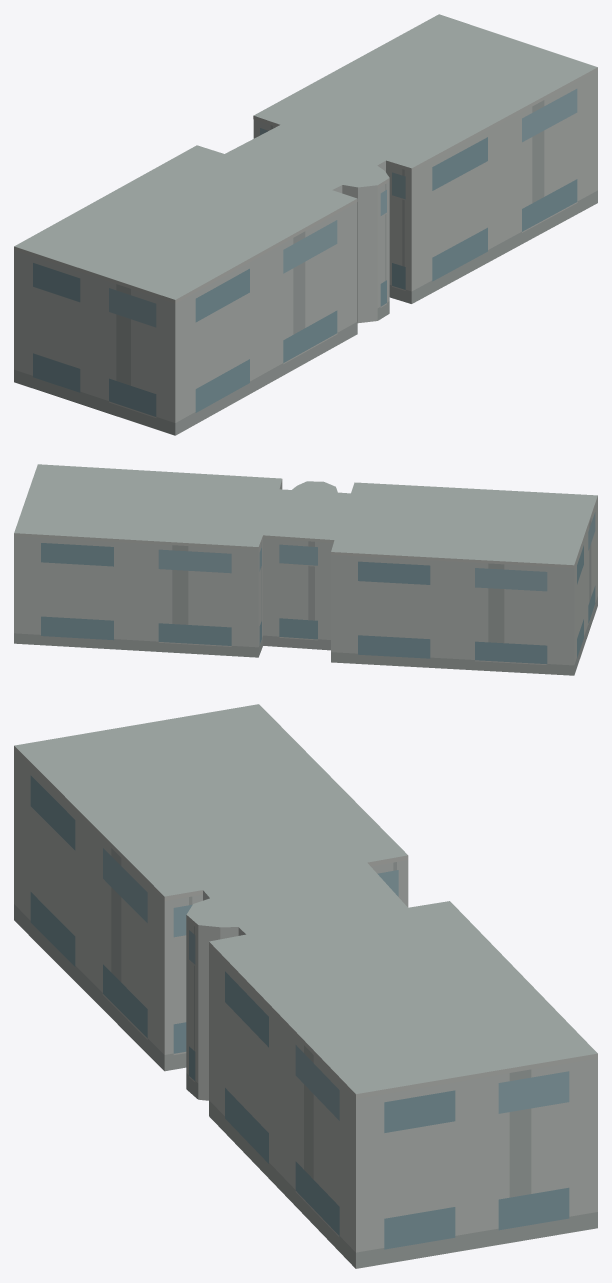
File: survey-upis-32520853.glb
3 renders of one model, top to bottom at view 1: azimuth 30°, elevation 25°; view 2: azimuth 150°, elevation 25°; view 3: azimuth 270°, elevation 25°, orthographic. The views are drawn at different scales.
Parts seen in each view (by area): view 1: survey-upis-32520853.tmp; view 2: survey-upis-32520853.tmp; view 3: survey-upis-32520853.tmp.
Boxes of the visible parts, x1,y1,x2,y2 form: survey-upis-32520853.tmp: (14,14,597,435); survey-upis-32520853.tmp: (14,464,597,675); survey-upis-32520853.tmp: (14,704,597,1268).
Size of the model in its own units: 43.84 by 9.15 by 27.73.
